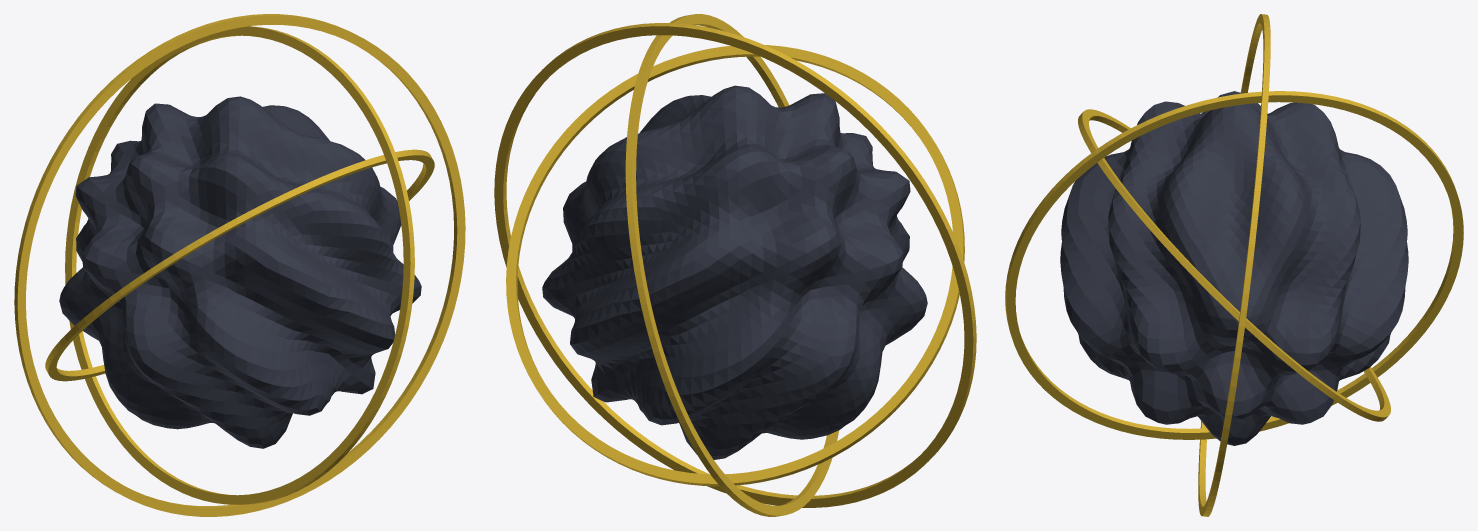
The model's file is gpu-artifact.glb.
3 views of the same model, side by side, from view 1: azimuth 30°, elevation 25°; view 2: azimuth 150°, elevation 25°; view 3: azimuth 270°, elevation 25° (orthographic). The views are drawn at different scales.
Parts seen in each view (by area): view 1: pod-mockup-forge_obsidian_core, pod-mockup-forge_orbital_ring_2, pod-mockup-forge_orbital_ring_1, pod-mockup-forge_orbital_ring_0; view 2: pod-mockup-forge_obsidian_core, pod-mockup-forge_orbital_ring_2, pod-mockup-forge_orbital_ring_0, pod-mockup-forge_orbital_ring_1; view 3: pod-mockup-forge_obsidian_core, pod-mockup-forge_orbital_ring_1, pod-mockup-forge_orbital_ring_2, pod-mockup-forge_orbital_ring_0.
Boxes of the visible parts, bbox=[...] form: pod-mockup-forge_obsidian_core: bbox=[59, 96, 421, 448]; pod-mockup-forge_orbital_ring_2: bbox=[14, 14, 465, 516]; pod-mockup-forge_orbital_ring_1: bbox=[65, 26, 414, 504]; pod-mockup-forge_orbital_ring_0: bbox=[45, 149, 434, 381]; pod-mockup-forge_obsidian_core: bbox=[542, 85, 927, 459]; pod-mockup-forge_orbital_ring_2: bbox=[494, 23, 976, 507]; pod-mockup-forge_orbital_ring_0: bbox=[506, 45, 964, 486]; pod-mockup-forge_orbital_ring_1: bbox=[625, 14, 839, 516]; pod-mockup-forge_obsidian_core: bbox=[1060, 91, 1408, 445]; pod-mockup-forge_orbital_ring_1: bbox=[1005, 91, 1463, 439]; pod-mockup-forge_orbital_ring_2: bbox=[1198, 14, 1270, 516]; pod-mockup-forge_orbital_ring_0: bbox=[1078, 109, 1390, 421].
Bounding box in the file's own units: 3.24 × 3.22 × 2.94.
